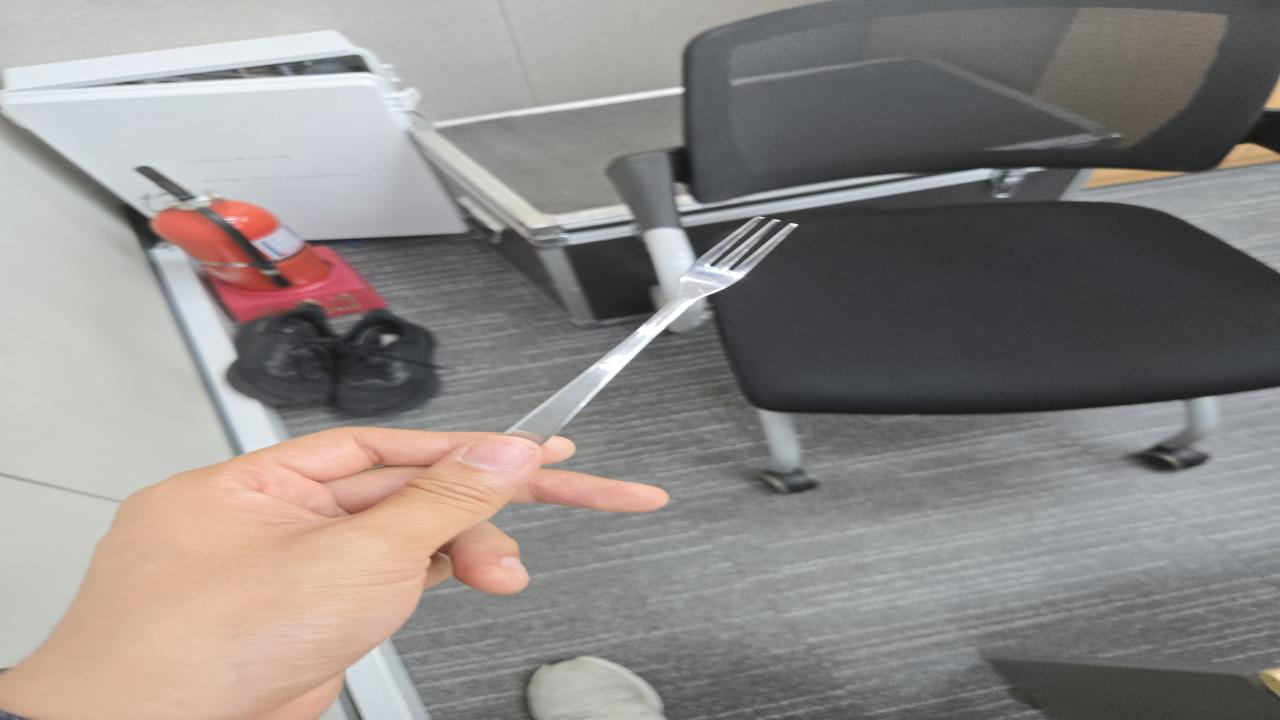fork: (508, 214, 805, 445)
